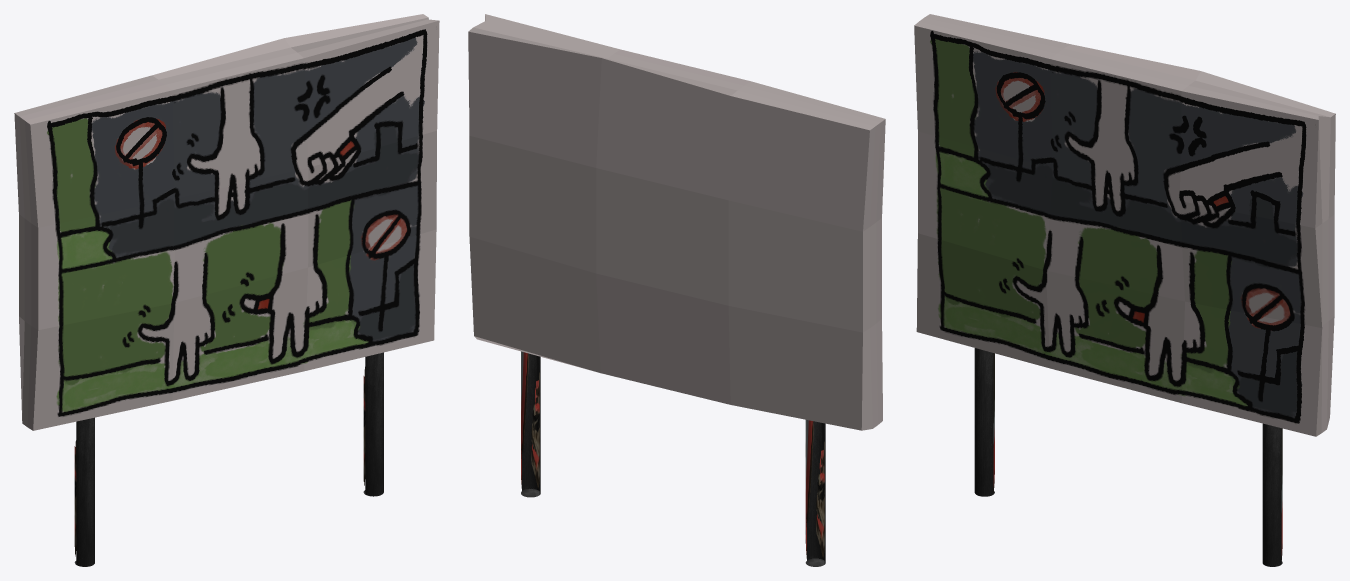
File: 提示牌.fbx
3 renders of one model, left to right at view 1: azimuth 30°, elevation 25°; view 2: azimuth 150°, elevation 25°; view 3: azimuth 330°, elevation 25°, orthographic.
Parts seen in each view (by area): view 1: 禁止sign.013; view 2: 禁止sign.013; view 3: 禁止sign.013.
Part boxes in pixels (bbox=[...]): 禁止sign.013: bbox=[14, 14, 439, 566]; 禁止sign.013: bbox=[468, 14, 885, 566]; 禁止sign.013: bbox=[914, 14, 1335, 566].
Bounding box in the file's own units: 21.1 × 23.06 × 2.41.
